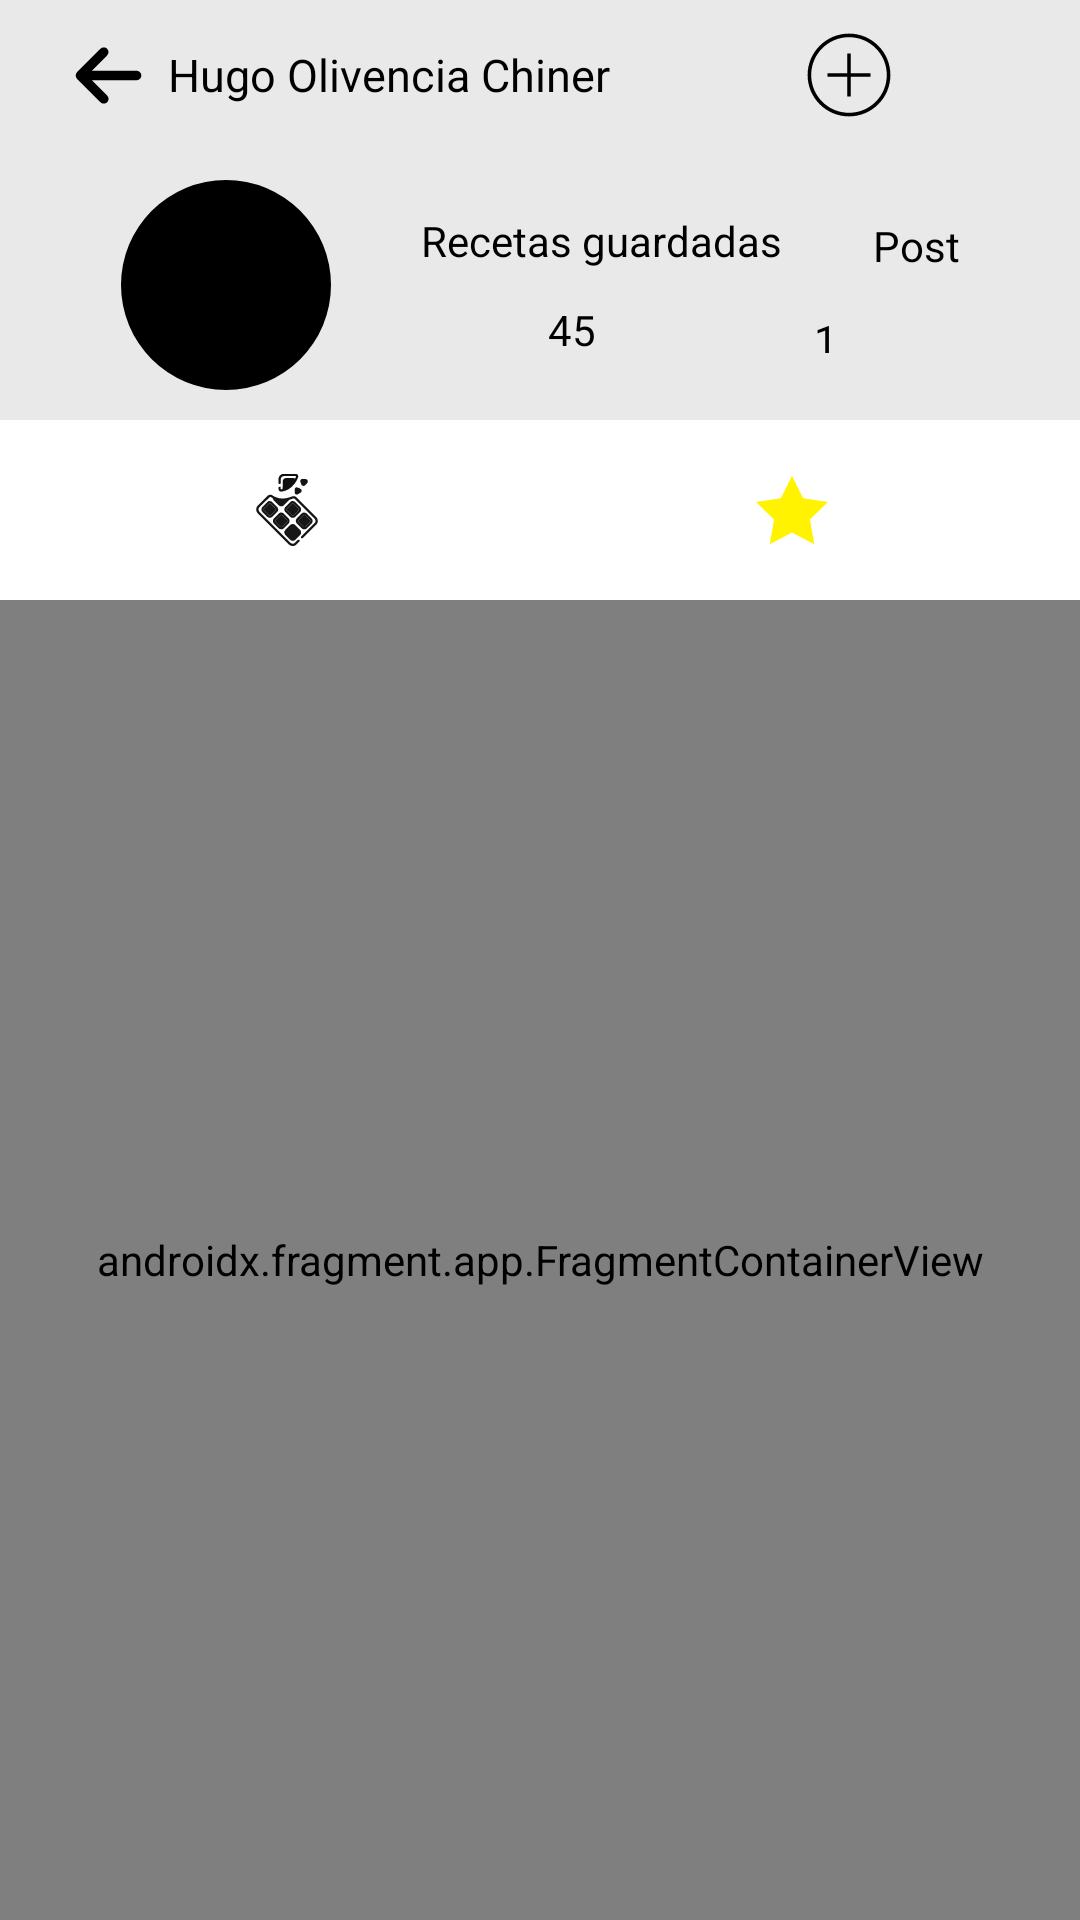

Icons on this 1080x1920 Android screen, each with its box as (left=x1, top=y1, right=x2, bottom=y2):
arrow left: (left=75, top=47, right=142, bottom=104)
mas: (left=807, top=33, right=891, bottom=117)
